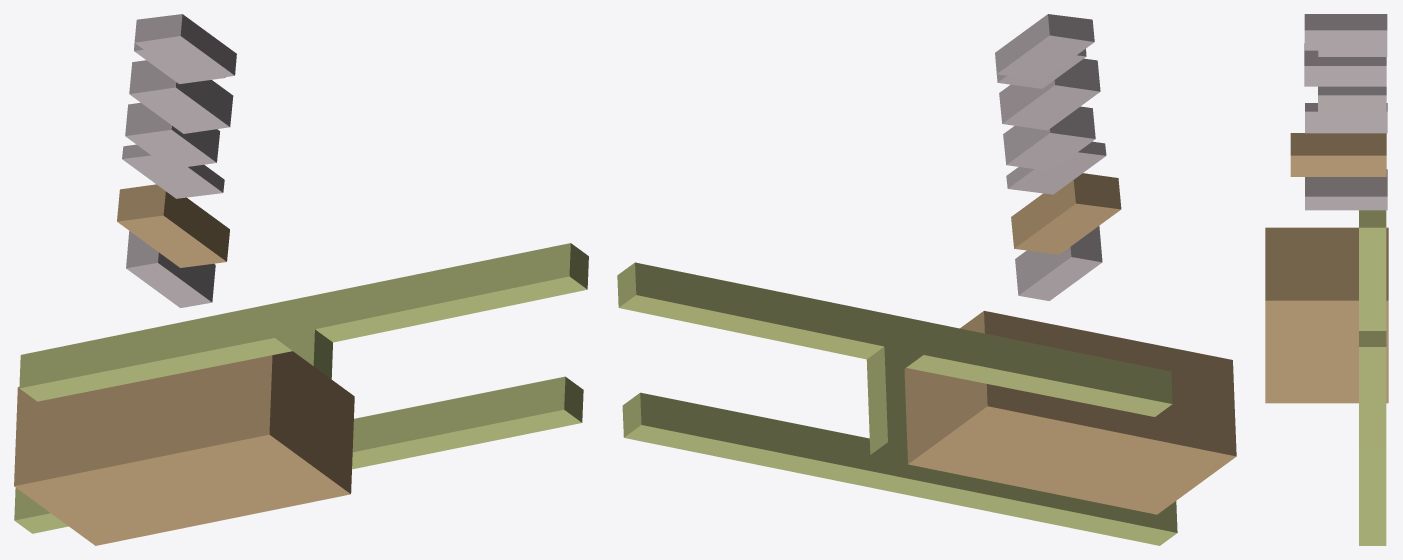
3 renders of one model, left to right at view 1: azimuth 30°, elevation 25°; view 2: azimuth 150°, elevation 25°; view 3: azimuth 270°, elevation 25°, orthographic. The views are drawn at different scales.
Parts seen in each view (by area): view 1: 0_1_3_2_2_1_0; view 2: 0_1_3_2_2_1_0; view 3: 0_1_3_2_2_1_0.
Boxes of the visible parts, left/top/right/bottom form: 0_1_3_2_2_1_0: left=14, top=14, right=588, bottom=545; 0_1_3_2_2_1_0: left=617, top=14, right=1236, bottom=545; 0_1_3_2_2_1_0: left=1265, top=14, right=1388, bottom=545.
Size of the model in its own units: 106 by 90.15 by 27.
